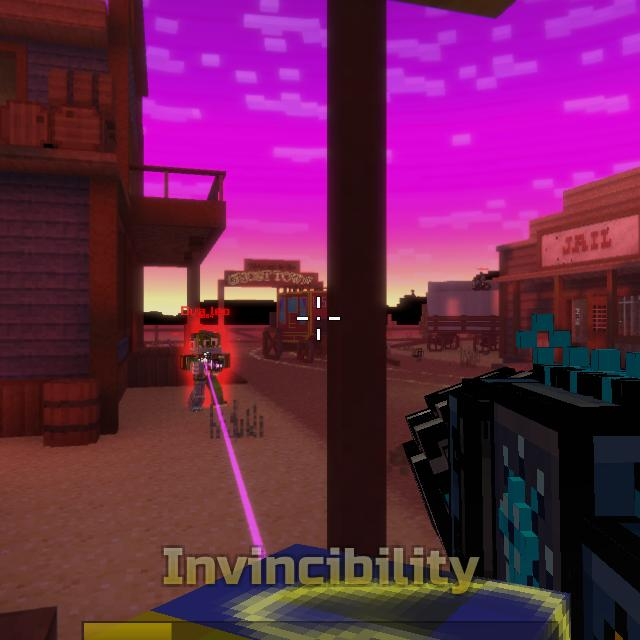Enemy: (182, 328, 231, 409)
